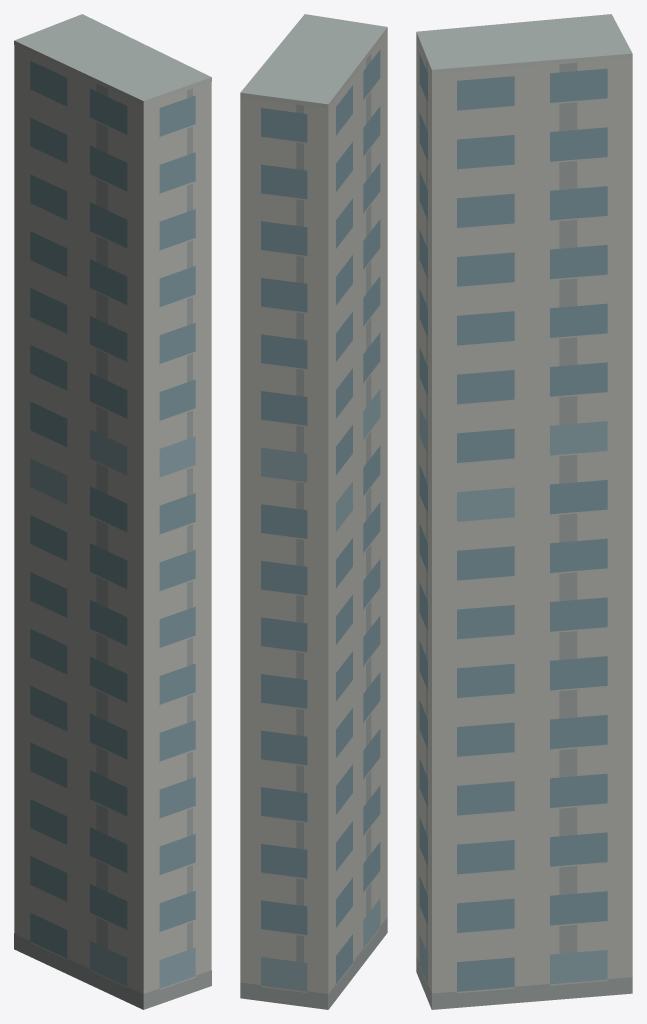
The model's file is survey-upis-32696826.glb.
3 views of the same model, side by side, from view 1: azimuth 30°, elevation 25°; view 2: azimuth 150°, elevation 25°; view 3: azimuth 270°, elevation 25° (orthographic). The views are drawn at different scales.
Visible parts, largest first — view 1: survey-upis-32696826.tmp; view 2: survey-upis-32696826.tmp; view 3: survey-upis-32696826.tmp.
Part boxes in pixels (box(x1,y1,x2,y2)): survey-upis-32696826.tmp: box(14, 14, 211, 1009); survey-upis-32696826.tmp: box(240, 14, 387, 1009); survey-upis-32696826.tmp: box(416, 14, 632, 1009).
Bounding box in the file's own units: 6.23 × 48.8 × 10.19.
